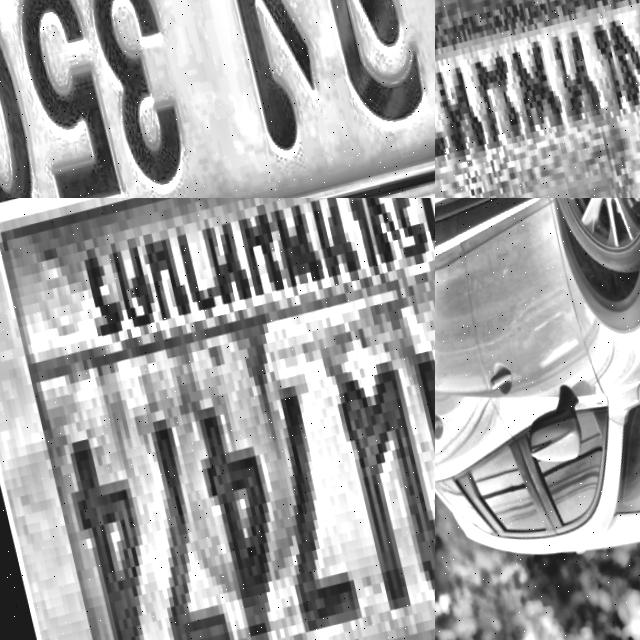license-plate: (0, 198, 435, 640), (0, 0, 435, 198), (435, 0, 640, 198)
